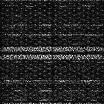lte: (1, 46, 104, 51), (1, 54, 104, 59)
